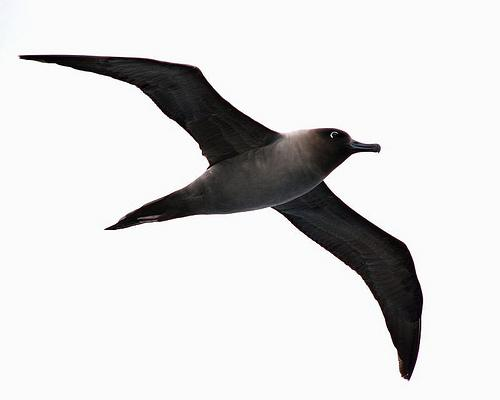003.Sooty_Albatross: (17, 53, 423, 381)
